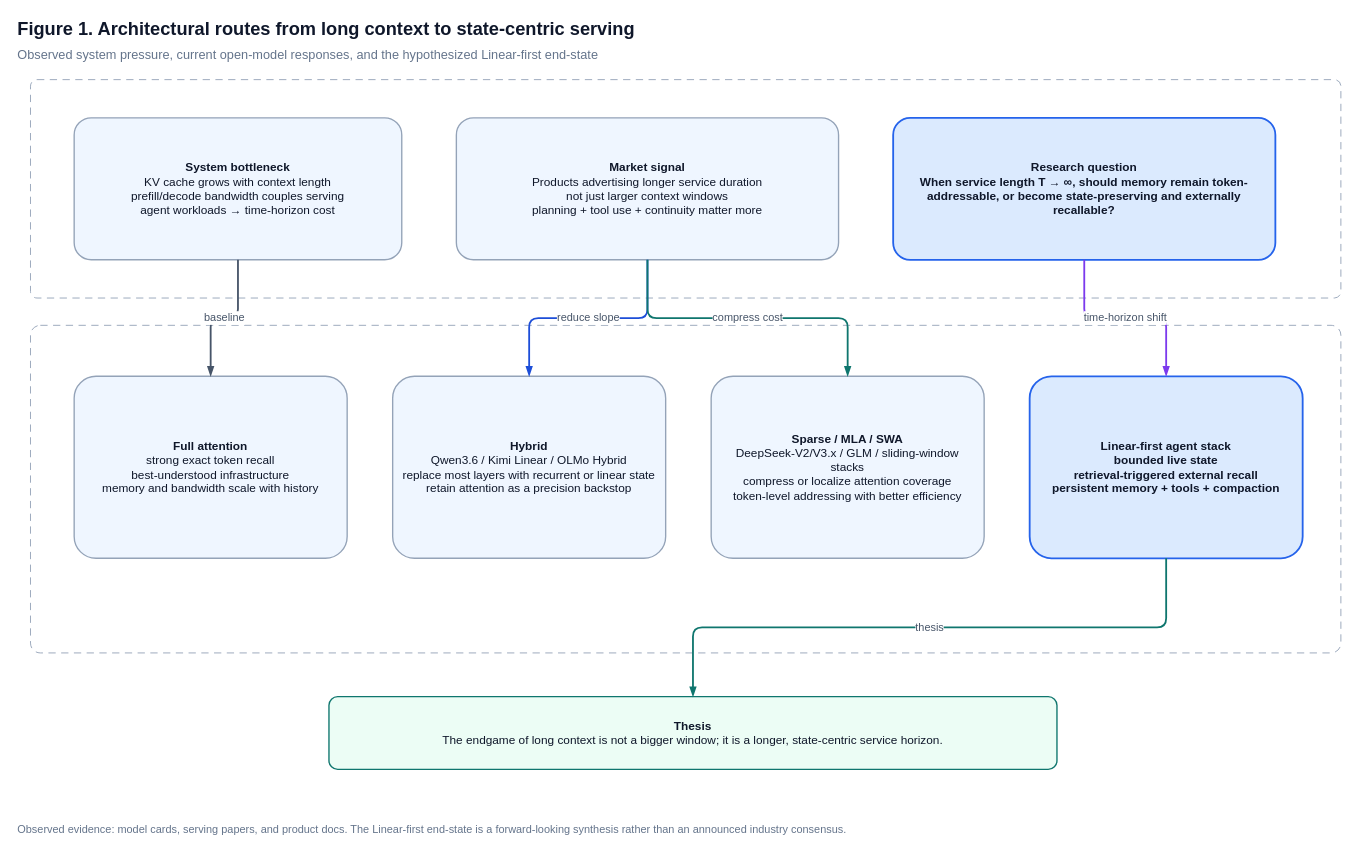
The diagram is 1357 pixels wide and 859 high, and some of its shapes have lost their labels. The shapes that lost their labels are listed below. From the top down, each one's box as (x1, y1, x2, y2) in pixels, then its label:
(30, 79, 1341, 298): OBSERVED PRESSURE
(30, 324, 1341, 653): COMPETING RESPONSES
